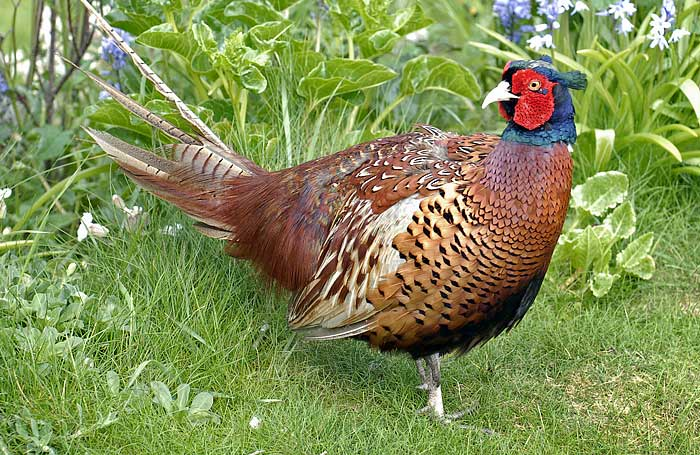pheasant: (94, 41, 574, 393)
